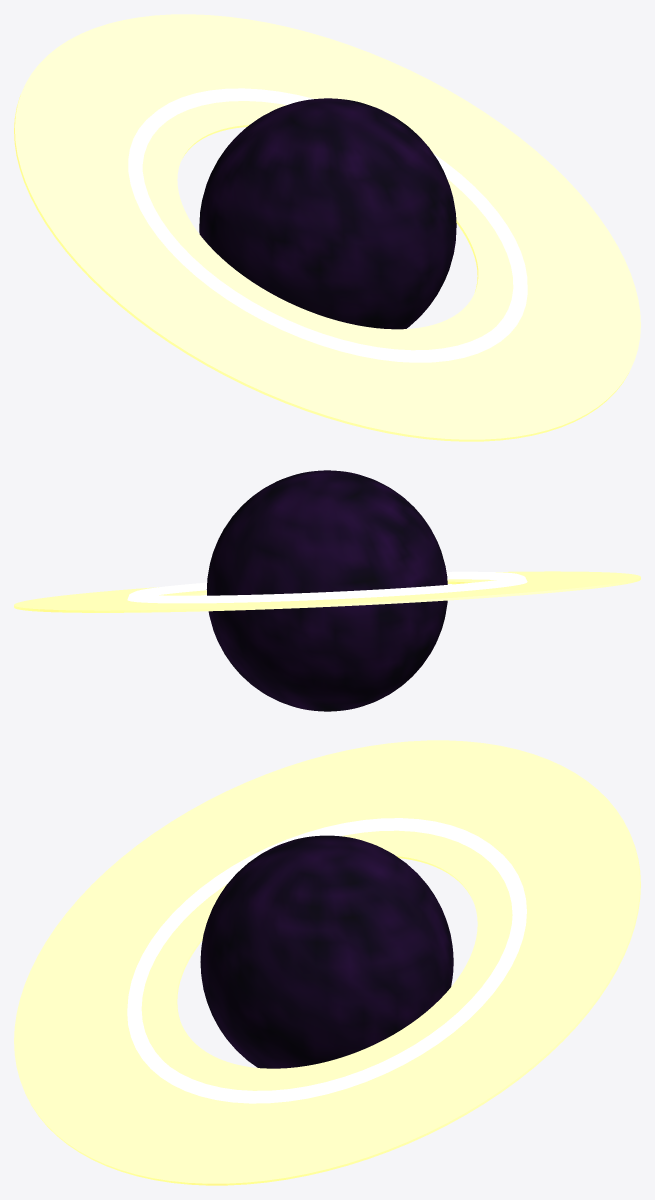
Rendered from planet_paradox.glb.
3 renders of one model, top to bottom at view 1: azimuth 30°, elevation 25°; view 2: azimuth 150°, elevation 25°; view 3: azimuth 270°, elevation 25°, orthographic. The views are drawn at different scales.
Parts seen in each view (by area): view 1: Ring, Surface, Halo; view 2: Surface, Ring, Halo; view 3: Ring, Surface, Halo.
Part boxes in pixels (<box>): Ring: <box>14,14,640,441</box>; Surface: <box>199,98,456,329</box>; Halo: <box>128,88,527,362</box>; Surface: <box>206,470,447,711</box>; Ring: <box>14,571,640,612</box>; Halo: <box>127,571,527,603</box>; Ring: <box>14,740,640,1185</box>; Surface: <box>200,835,453,1068</box>; Halo: <box>127,818,526,1103</box>.
Size of the model in its own units: 5.06 by 2.02 by 4.95.
